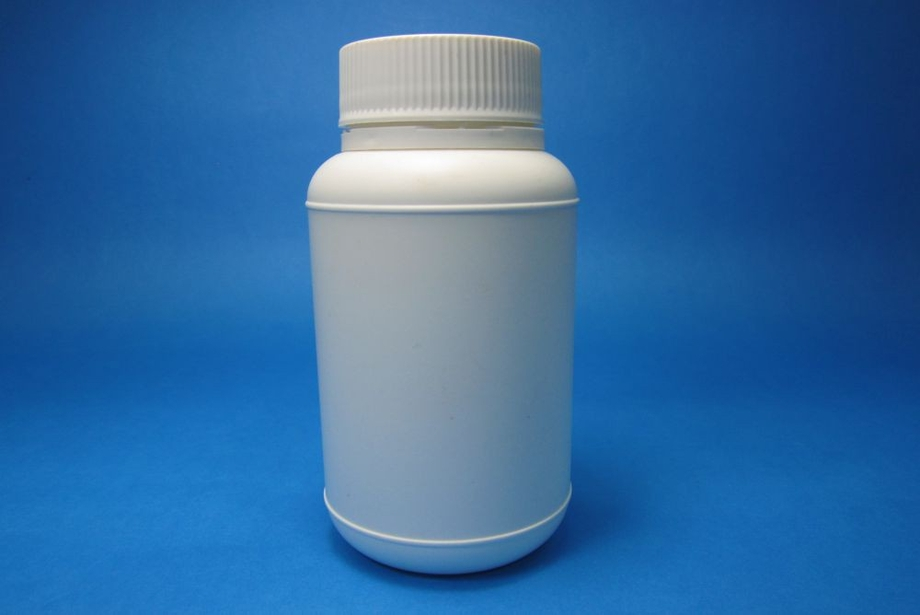medicinejar: (299, 27, 591, 579)
